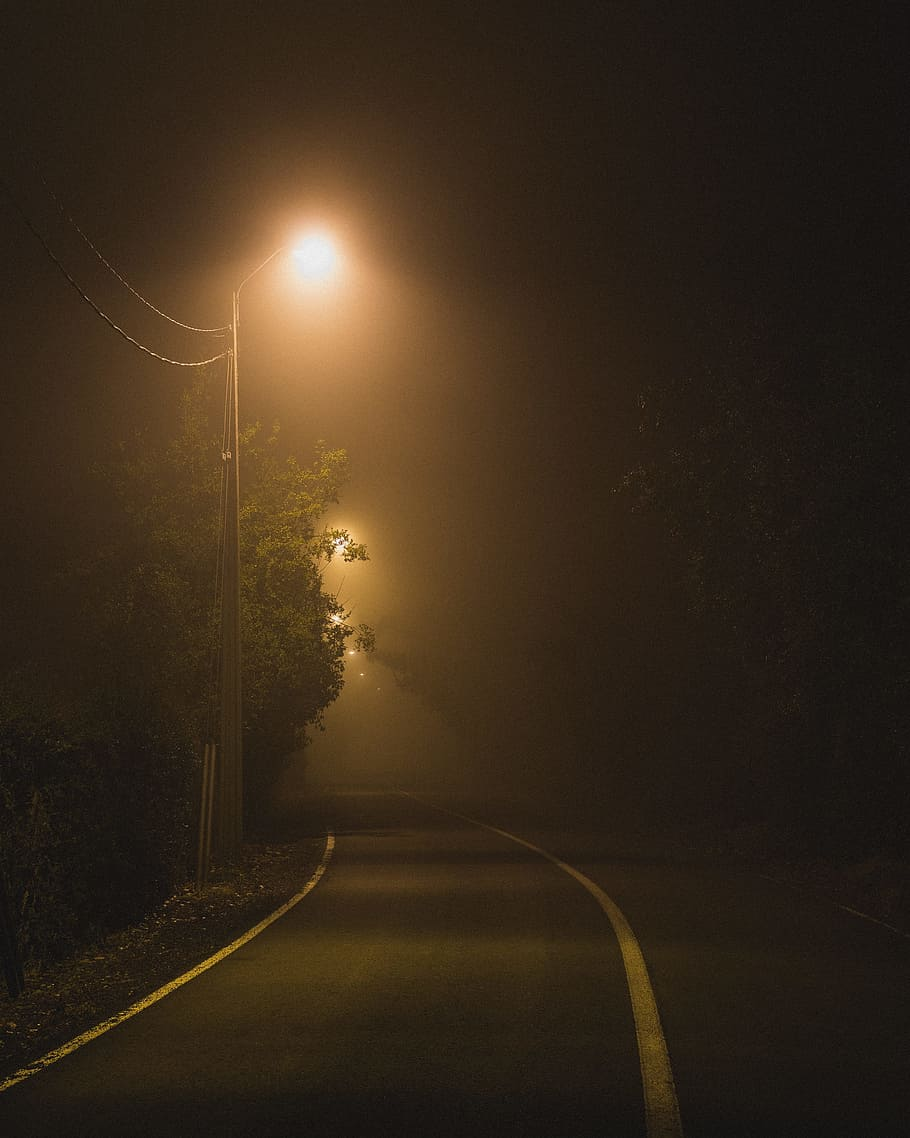Lamp: (181, 222, 365, 869)
